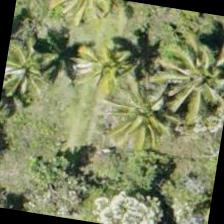Kelapa_Sawit: (104, 68, 207, 172), (50, 6, 153, 109), (148, 29, 223, 131), (0, 23, 71, 122)
